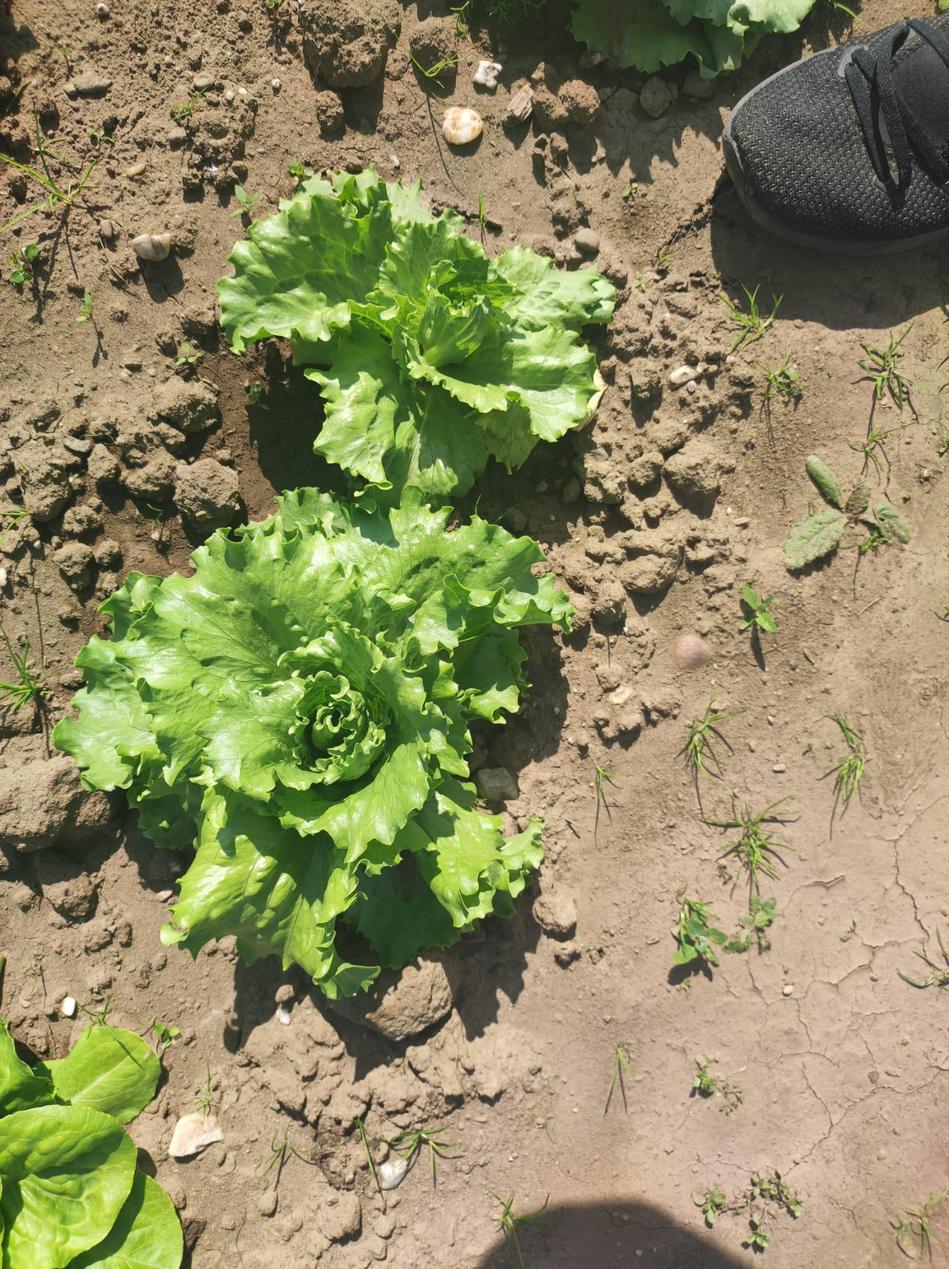Healthy: (52, 488, 571, 1000), (216, 167, 616, 497)
